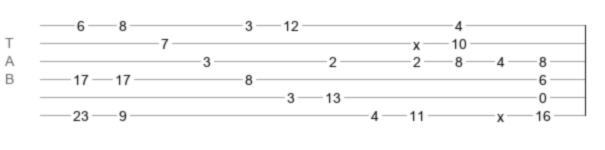0: (539, 90, 547, 100)
10: (451, 36, 467, 46)
11: (409, 108, 425, 118)
12: (283, 18, 299, 28)
13: (325, 90, 341, 100)
16: (535, 108, 551, 118)
17: (73, 72, 89, 82), (115, 72, 131, 82)
2: (329, 54, 337, 64), (413, 54, 421, 64)
23: (73, 108, 89, 118)
3: (203, 54, 211, 64), (245, 18, 253, 28), (287, 90, 295, 100)
4: (371, 108, 379, 118), (455, 18, 463, 28), (497, 54, 505, 64)
6: (77, 18, 85, 28), (539, 72, 547, 82)
7: (161, 36, 169, 46)
8: (119, 18, 127, 28), (245, 72, 253, 82), (455, 54, 463, 64), (539, 54, 547, 64)
9: (119, 108, 127, 118)
x: (413, 37, 420, 45), (497, 109, 504, 117)
